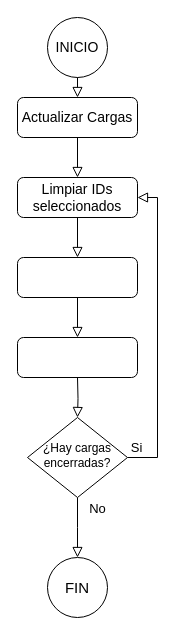
Some shapes in this 185 by 635 pixel diagram are drawn without their labels. Here are the shapes that lost their labels. From the top down, the centre of each, then its label:
At point 77,277: "Seleccionar IDs con los criterios".
At point 77,357: "Balance Global".
